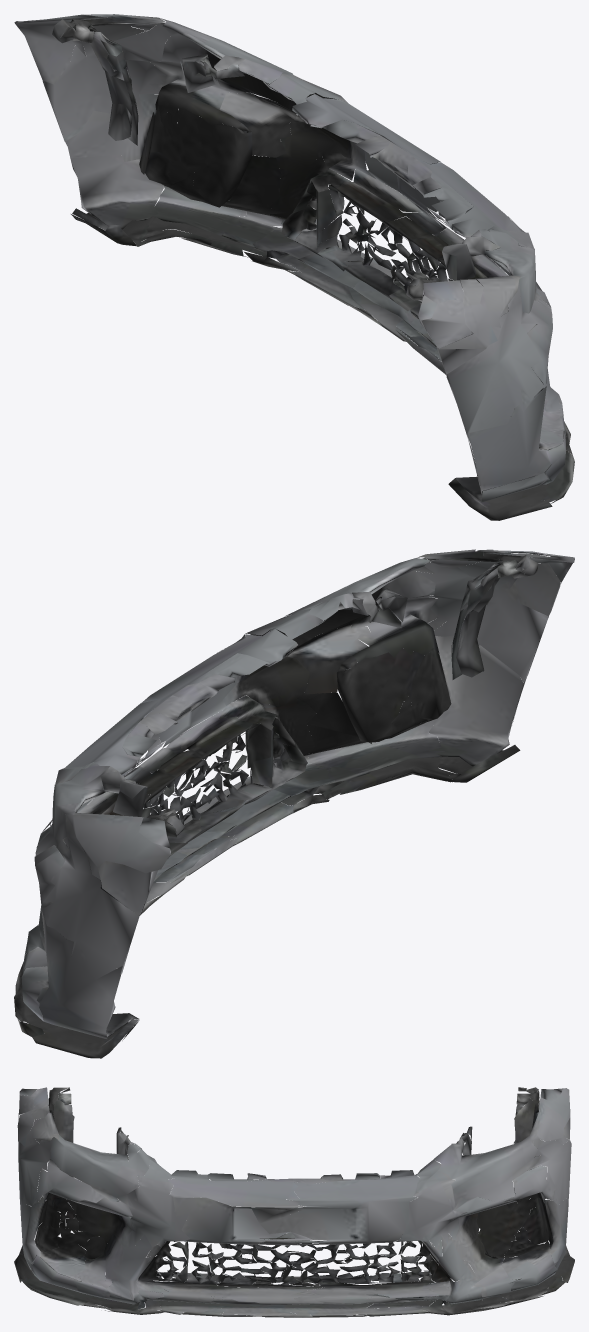
Rendered from common_bumper_front.glb.
The picture shows the model from 3 angles, top to bottom: view 1: azimuth 30°, elevation 25°; view 2: azimuth 150°, elevation 25°; view 3: azimuth 270°, elevation 25°; orthographic projection. The views are drawn at different scales.
Visible parts, largest first — view 1: tripo_node_85477116-c147-423d-918d-b7a74a13c269; view 2: tripo_node_85477116-c147-423d-918d-b7a74a13c269; view 3: tripo_node_85477116-c147-423d-918d-b7a74a13c269.
Boxes of the visible parts, box(x1,y1,x2,y2) form: tripo_node_85477116-c147-423d-918d-b7a74a13c269: box(14, 14, 574, 520); tripo_node_85477116-c147-423d-918d-b7a74a13c269: box(14, 549, 574, 1058); tripo_node_85477116-c147-423d-918d-b7a74a13c269: box(14, 1087, 574, 1317).
Bounding box in the file's own units: 0.3346 × 0.317 × 1.
Materials: 1 (1 with a texture image).
